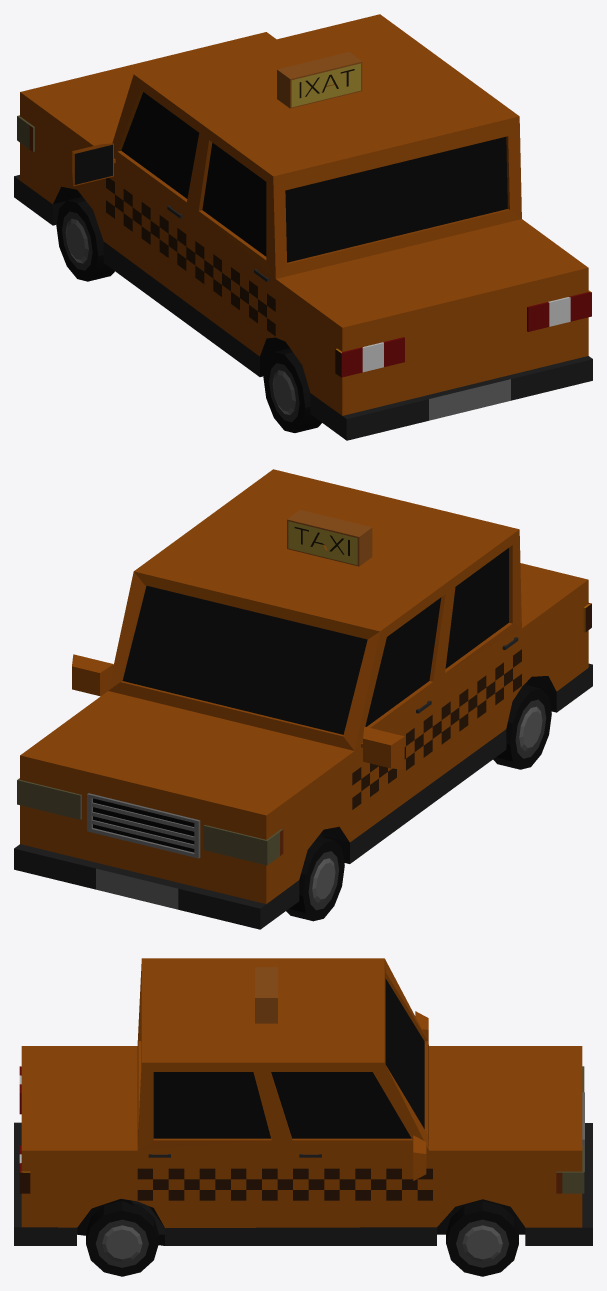
File: taxi.FBX
3 views of the same model, one above another, from view 1: azimuth 30°, elevation 25°; view 2: azimuth 150°, elevation 25°; view 3: azimuth 270°, elevation 25° (orthographic). The views are drawn at different scales.
Parts seen in each view (by area): view 1: taxi; view 2: taxi; view 3: taxi.
Part boxes in pixels (x1,y1,x2,y2): taxi: [14, 14, 592, 440]; taxi: [14, 469, 592, 929]; taxi: [14, 958, 592, 1276].
Bounding box in the file's own units: 3.31 × 2.62 × 5.74.
